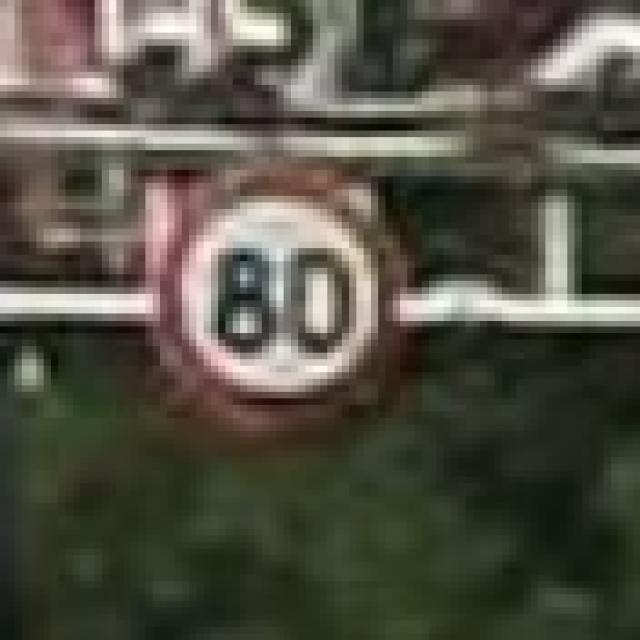Speed Limit -80-: (204, 242, 357, 359)
